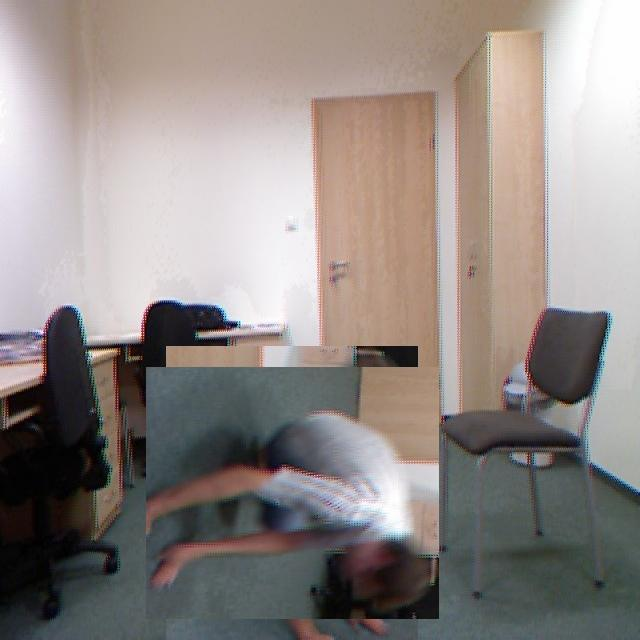Fall: (159, 397, 417, 622)
